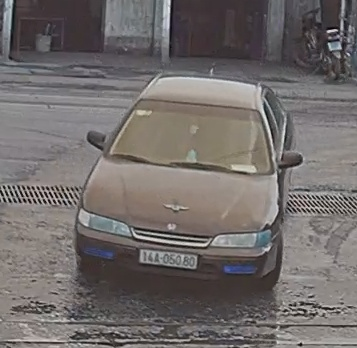vehicle plate: (133, 245, 198, 273)
